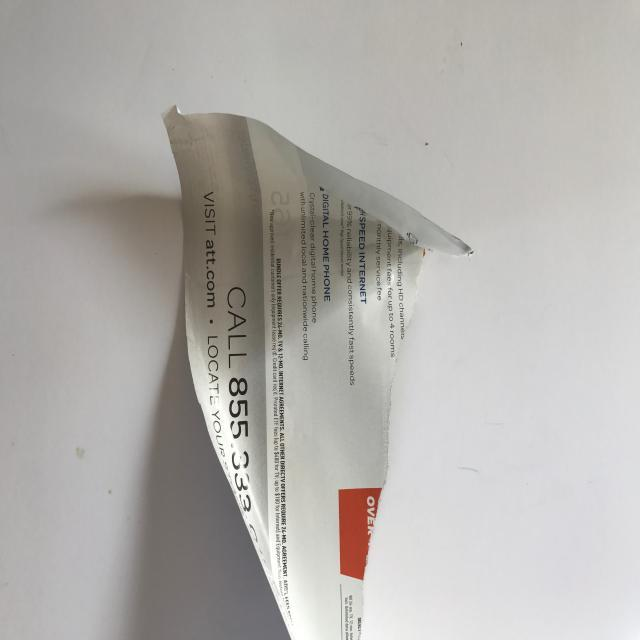paper: (161, 101, 476, 640)
